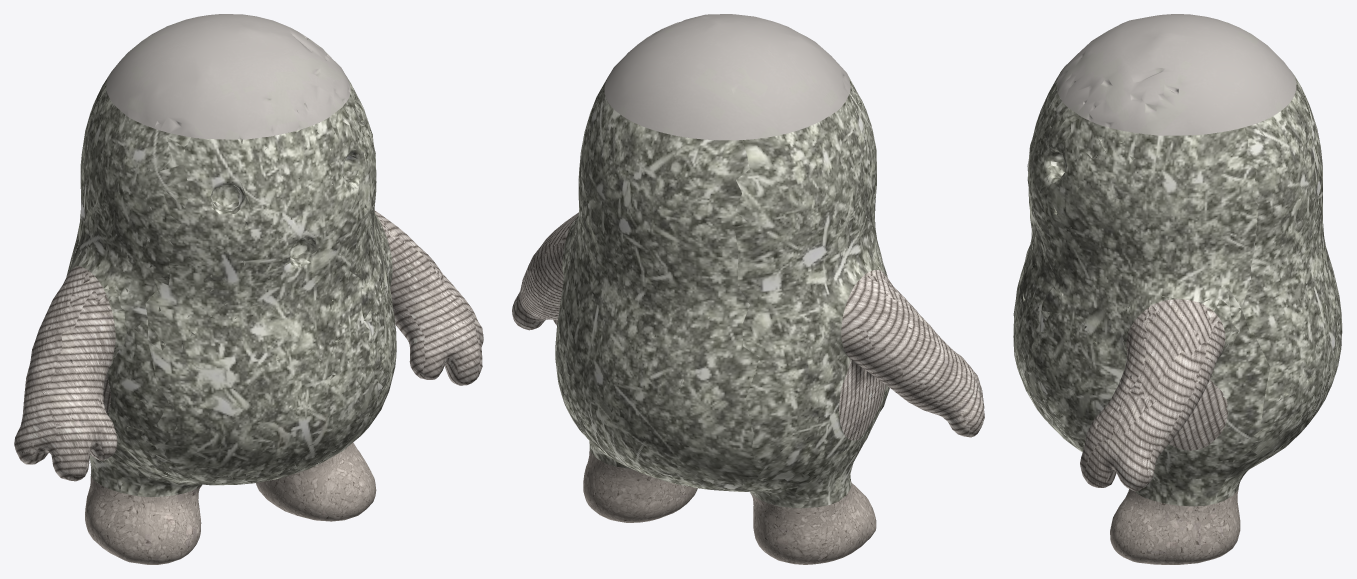
File: 23-blob-texture-bodies--sand_creature_3d_model.glb
3 views of the same model, side by side, from view 1: azimuth 30°, elevation 25°; view 2: azimuth 150°, elevation 25°; view 3: azimuth 270°, elevation 25° (orthographic). The views are drawn at different scales.
Visible parts, largest first — view 1: body_mesh, arms_mesh, head_mesh, feet_mesh; view 2: body_mesh, head_mesh, arms_mesh, feet_mesh; view 3: body_mesh, head_mesh, arms_mesh, feet_mesh.
Boxes of the visible parts, <box> form: body_mesh: <box>66,76,396,496</box>; arms_mesh: <box>14,210,483,481</box>; head_mesh: <box>106,14,350,139</box>; feet_mesh: <box>85,442,376,564</box>; body_mesh: <box>555,77,889,508</box>; head_mesh: <box>604,14,850,140</box>; arms_mesh: <box>512,212,984,440</box>; feet_mesh: <box>583,450,876,564</box>; body_mesh: <box>1013,68,1342,506</box>; head_mesh: <box>1057,14,1296,135</box>; arms_mesh: <box>1080,299,1227,491</box>; feet_mesh: <box>1110,489,1240,564</box>.
Bounding box in the file's own units: 2.93 × 3 × 1.85.
Materials: 4 (4 with a texture image).
